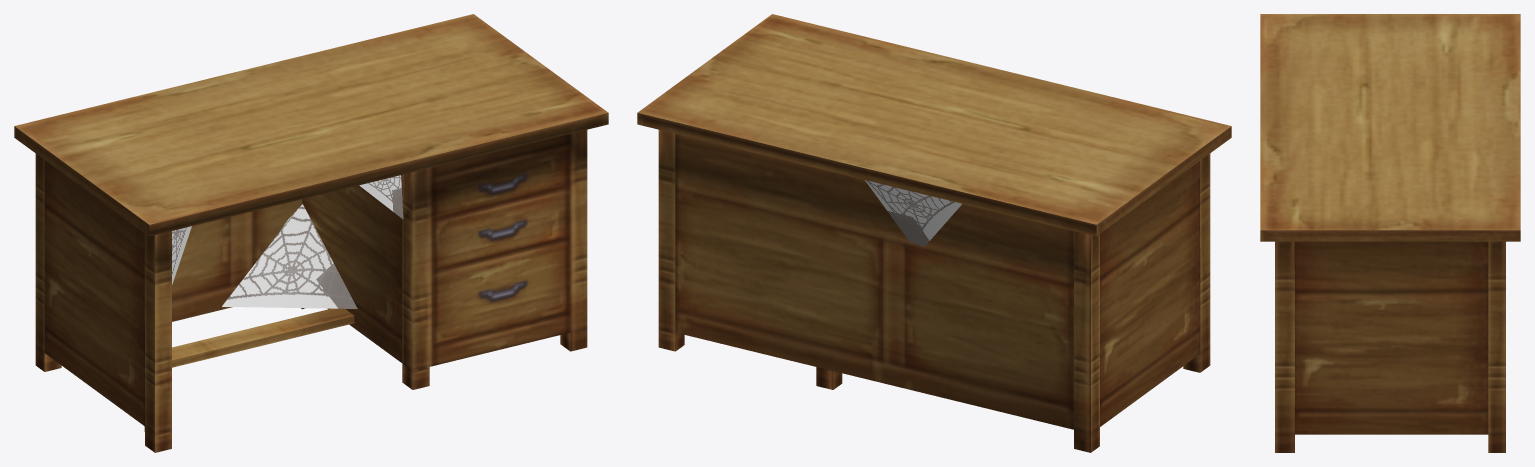
The model's file is a_SWGdesk01b.glb.
The picture shows the model from 3 angles, left to right: view 1: azimuth 30°, elevation 25°; view 2: azimuth 150°, elevation 25°; view 3: azimuth 270°, elevation 25°; orthographic projection. The views are drawn at different scales.
Visible parts, largest first — view 1: a_SWGdesk01b; view 2: a_SWGdesk01b; view 3: a_SWGdesk01b.
Part boxes in pixels (x1=…): a_SWGdesk01b: x1=14, y1=14, x2=608, y2=452; a_SWGdesk01b: x1=637, y1=14, x2=1231, y2=452; a_SWGdesk01b: x1=1260, y1=14, x2=1520, y2=452.
Size of the model in its own units: 1.98 by 0.9763 by 1.01.
2 materials, 2 textured.
